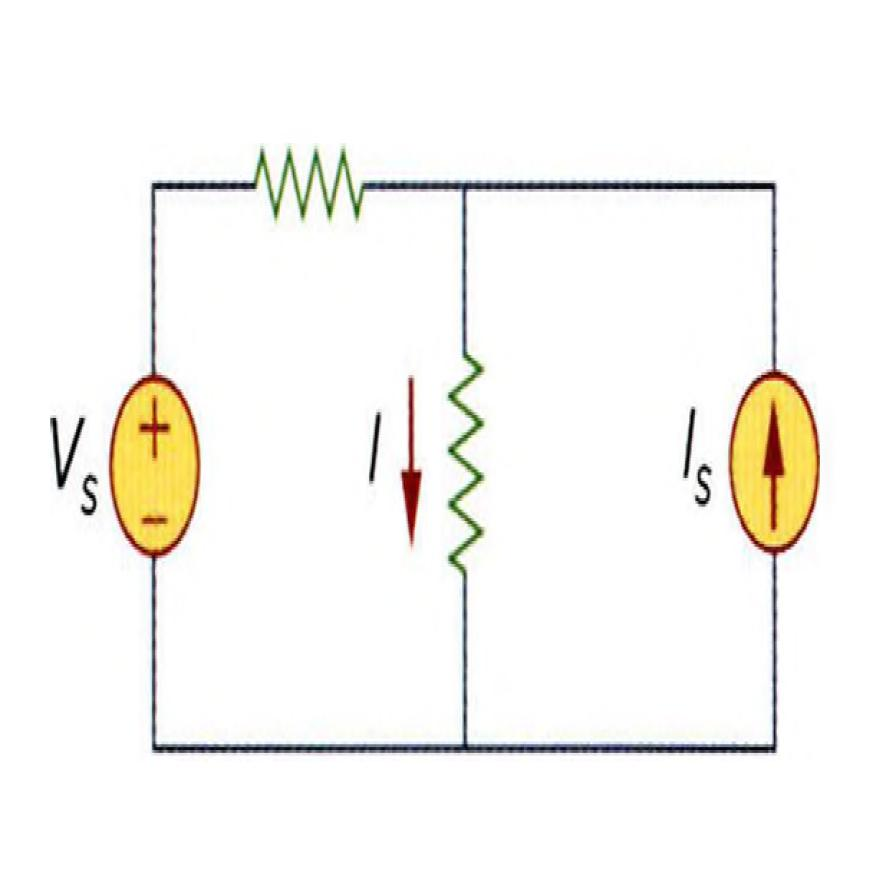I1: (729, 370, 817, 556)
R1: (244, 132, 379, 232)
R2: (438, 320, 494, 608)
V1: (109, 375, 198, 558)
